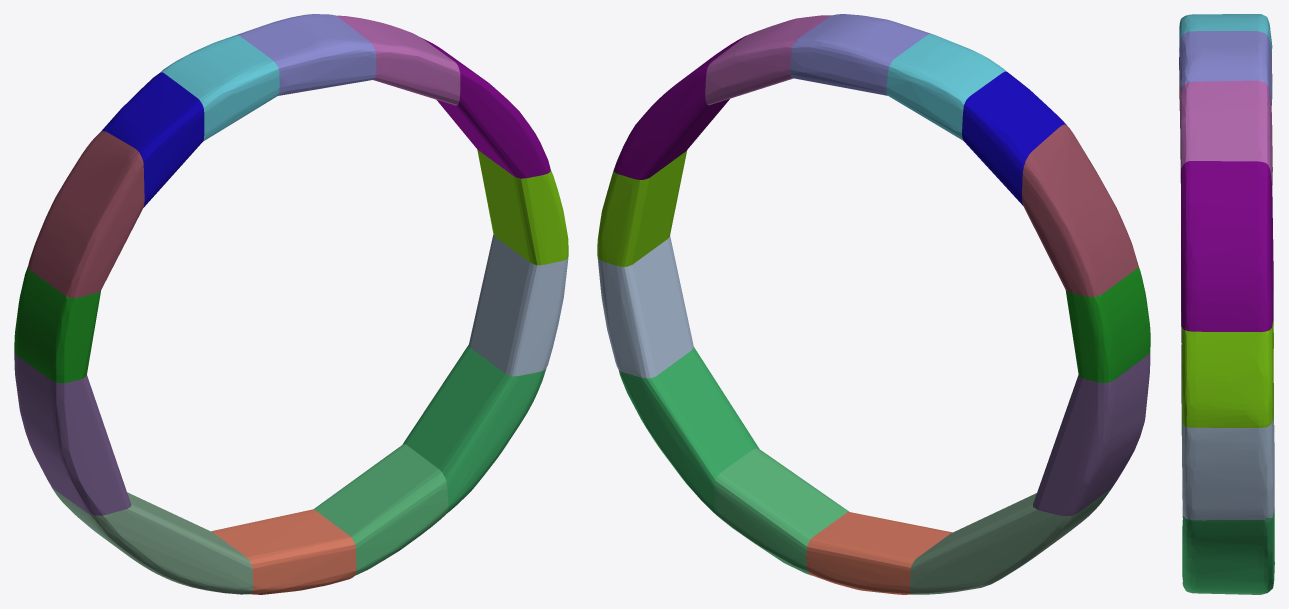
File: coacd_collision.obj
The picture shows the model from 3 angles, left to right: view 1: azimuth 30°, elevation 25°; view 2: azimuth 150°, elevation 25°; view 3: azimuth 270°, elevation 25°; orthographic projection. The views are drawn at different scales.
Visible parts, largest first — view 1: geometry_13, geometry_10, geometry_1, geometry_6, geometry_3, geometry_0, geometry_9, geometry_12, geometry_5, geometry_8, geometry_2, geometry_4 (+2 smaller); view 2: geometry_13, geometry_1, geometry_10, geometry_6, geometry_0, geometry_3, geometry_9, geometry_12, geometry_5, geometry_2, geometry_8, geometry_4 (+2 smaller); view 3: geometry_11, geometry_4, geometry_6, geometry_7, geometry_10, geometry_12, geometry_2, geometry_3, geometry_0.
Part boxes in pixels (box(x1,y1,x2,y2)): geometry_13: box(28, 131, 144, 297); geometry_10: box(402, 344, 546, 513); geometry_1: box(14, 352, 131, 515); geometry_6: box(469, 234, 568, 376); geometry_3: box(313, 444, 448, 575); geometry_0: box(51, 487, 253, 594); geometry_9: box(211, 509, 356, 594); geometry_12: box(236, 14, 376, 95); geometry_5: box(101, 72, 204, 207); geometry_8: box(14, 266, 100, 383); geometry_2: box(160, 35, 279, 141); geometry_4: box(477, 150, 568, 265); geometry_13: box(1022, 124, 1138, 296); geometry_1: box(1033, 352, 1150, 516); geometry_10: box(618, 347, 759, 515); geometry_6: box(597, 236, 693, 378); geometry_0: box(910, 487, 1112, 594); geometry_3: box(715, 448, 849, 575); geometry_9: box(806, 512, 952, 594); geometry_12: box(790, 14, 931, 95); geometry_5: box(962, 71, 1066, 205); geometry_2: box(886, 34, 1006, 140); geometry_8: box(1065, 266, 1150, 382); geometry_4: box(597, 150, 687, 266); geometry_11: box(1181, 161, 1273, 331); geometry_4: box(1182, 321, 1273, 427); geometry_6: box(1182, 417, 1274, 520); geometry_7: box(1180, 80, 1272, 186); geometry_10: box(1182, 508, 1274, 592); geometry_12: box(1179, 31, 1272, 104); geometry_2: box(1179, 14, 1272, 53); geometry_3: box(1182, 562, 1274, 594); geometry_0: box(1181, 345, 1274, 517).
Bounding box in the file's own units: 86.22 × 86.34 × 14.32.
